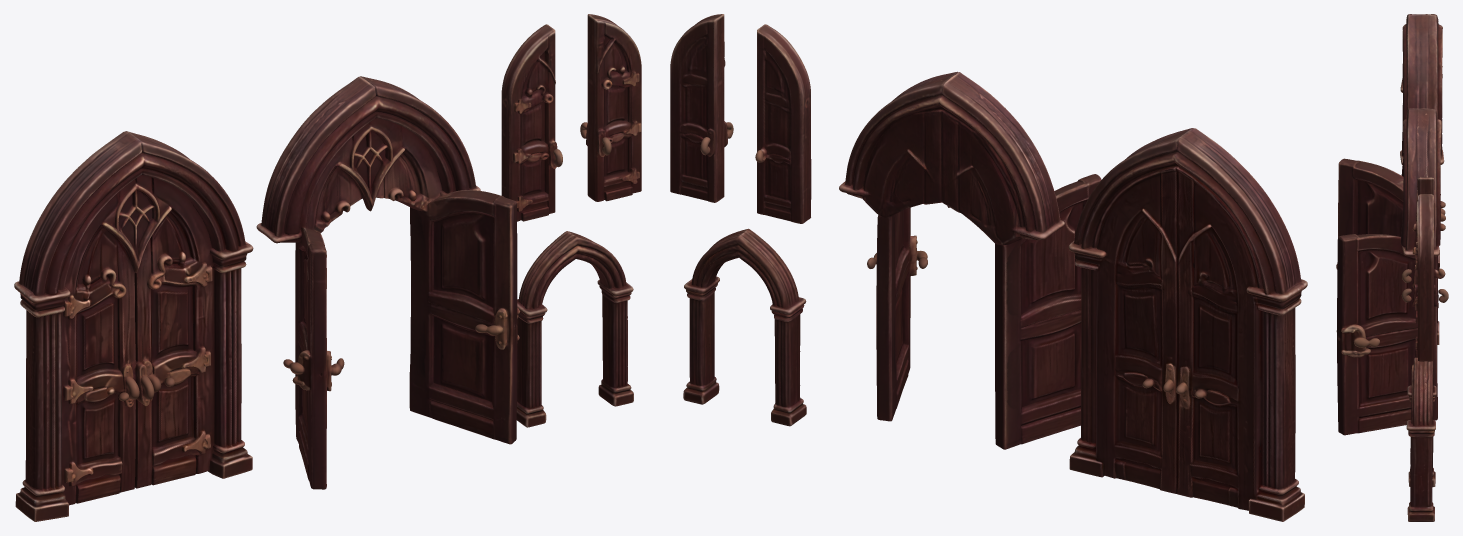
File: doors.glb
3 views of the same model, side by side, from view 1: azimuth 30°, elevation 25°; view 2: azimuth 150°, elevation 25°; view 3: azimuth 270°, elevation 25° (orthographic). The views are drawn at different scales.
Visible parts, largest first — view 1: model; view 2: model; view 3: model.
Boxes of the visible parts, x1=… form: model: x1=14, y1=14, x2=641, y2=521; model: x1=670, y1=14, x2=1307, y2=521; model: x1=1336, y1=14, x2=1448, y2=521.
Size of the model in its own units: 1.9 by 1.13 by 0.3662.
1 material, 1 textured.
